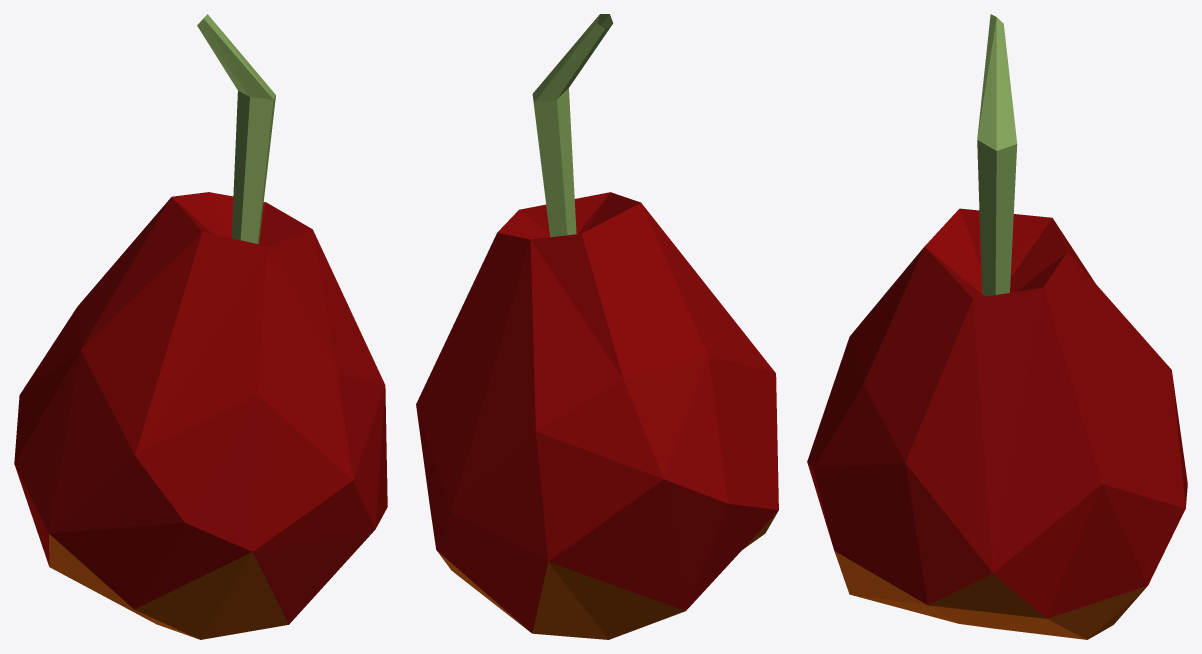
File: apple_fruit_2.fbx
3 views of the same model, side by side, from view 1: azimuth 30°, elevation 25°; view 2: azimuth 150°, elevation 25°; view 3: azimuth 270°, elevation 25° (orthographic). The views are drawn at different scales.
Parts seen in each view (by area): view 1: Apple_0_6; view 2: Apple_0_6; view 3: Apple_0_6.
Boxes of the visible parts, bbox=[...] form: Apple_0_6: bbox=[14, 14, 387, 639]; Apple_0_6: bbox=[416, 14, 778, 639]; Apple_0_6: bbox=[807, 14, 1187, 639].
Size of the model in its own units: 15.93 by 27.25 by 15.24.
